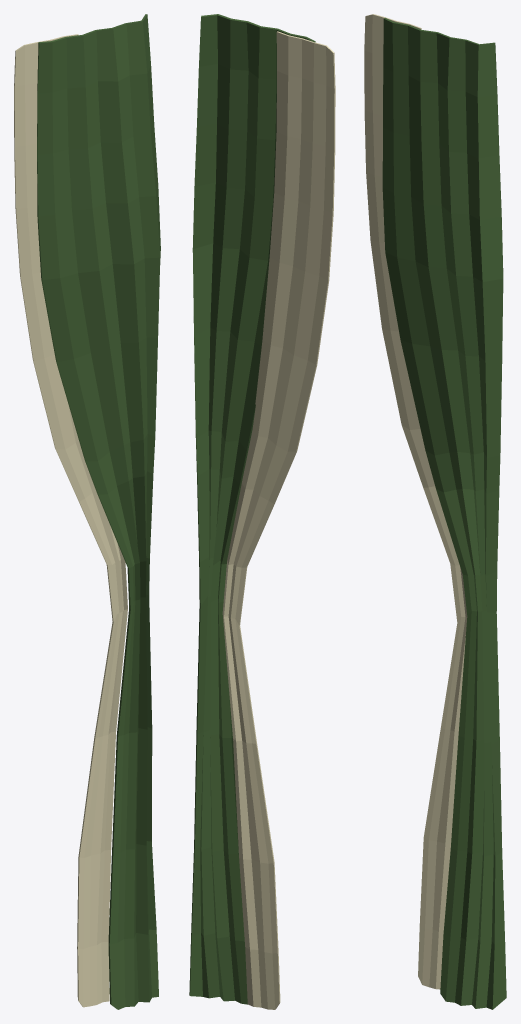
The model's file is Curtain_3_R.fbx.
3 renders of one model, left to right at view 1: azimuth 30°, elevation 25°; view 2: azimuth 150°, elevation 25°; view 3: azimuth 330°, elevation 25°, orthographic. The views are drawn at different scales.
Visible parts, largest first — view 1: Curtain_3_R; view 2: Curtain_3_R; view 3: Curtain_3_R.
Part boxes in pixels (x1,y1,x2,y2): Curtain_3_R: (14, 14, 160, 1009); Curtain_3_R: (189, 14, 335, 1009); Curtain_3_R: (364, 14, 506, 1009).
Size of the model in its own units: 30 by 195 by 6.
